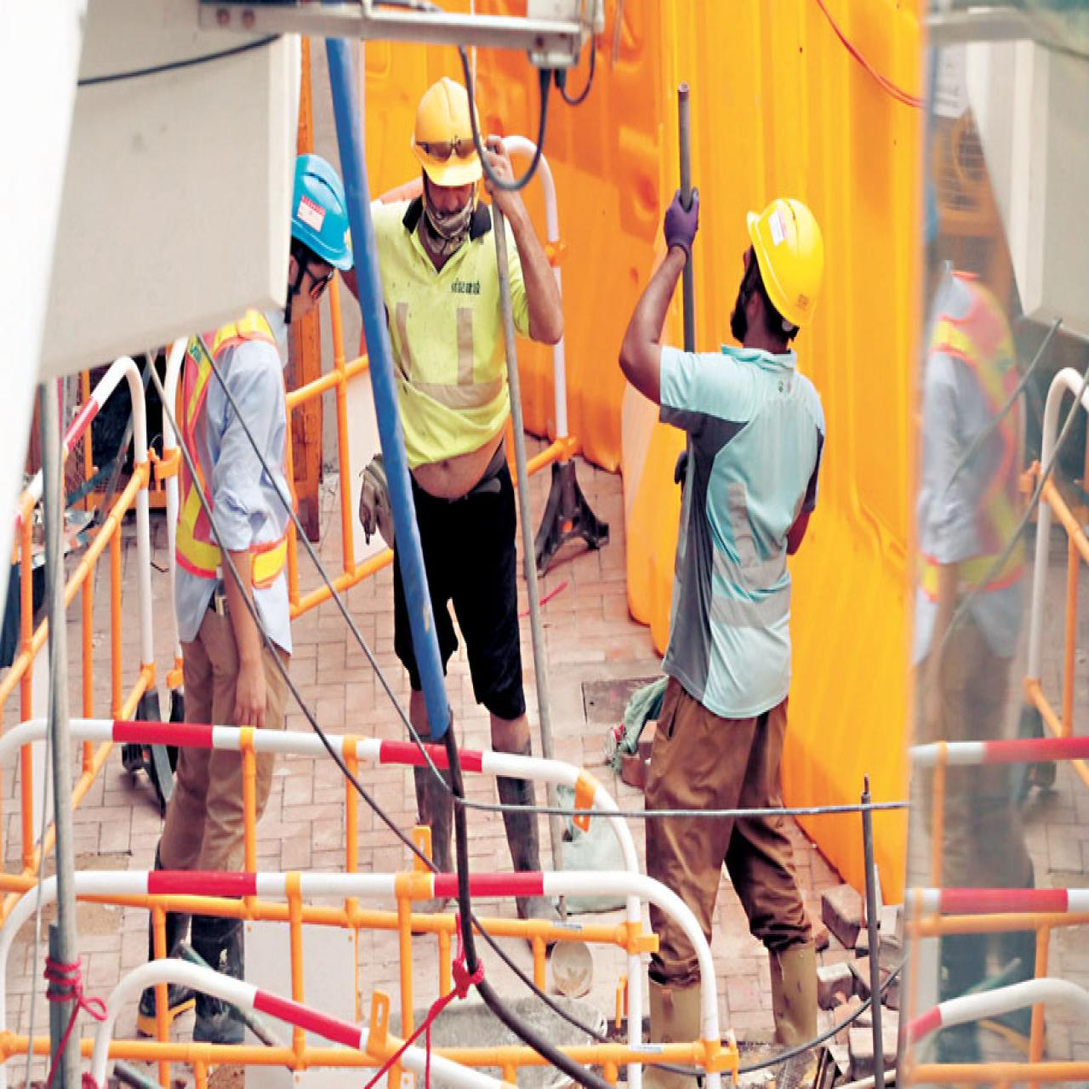NO_Safety_Vest: (656, 322, 824, 737), (364, 191, 534, 514)
Person: (351, 68, 606, 963), (597, 153, 839, 1081), (145, 144, 361, 1059)
Safety_Vest: (175, 303, 296, 660)
